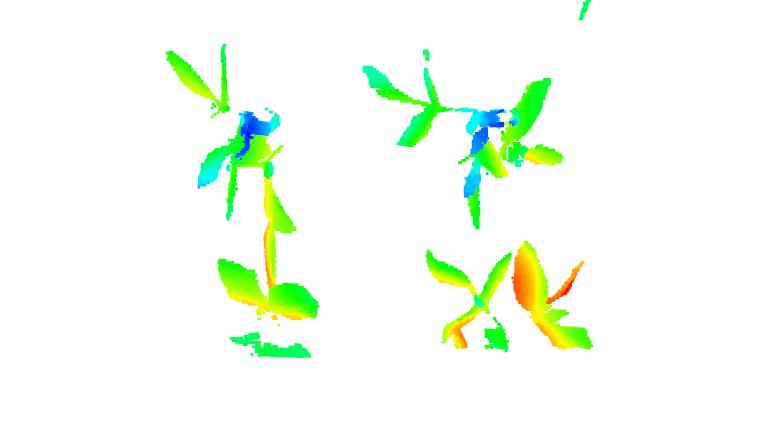mungbean: (363, 49, 578, 228), (163, 37, 313, 231), (420, 234, 596, 361), (215, 224, 327, 361)
